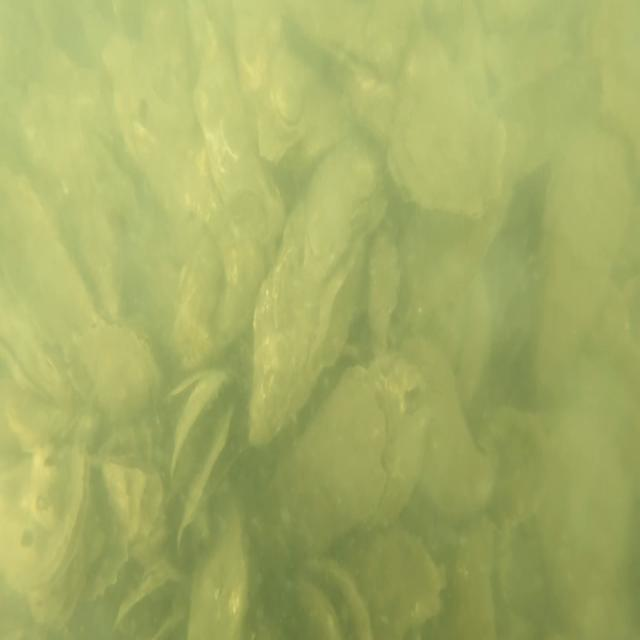Oyster-Closed: (249, 149, 383, 451), (258, 364, 389, 561), (386, 87, 506, 226), (0, 308, 69, 414)
Oyster-Indeterminate: (533, 123, 630, 416), (0, 168, 98, 361), (172, 188, 274, 364), (400, 337, 498, 519), (70, 321, 164, 446), (343, 530, 445, 640), (188, 517, 250, 640)
Oyster-Open: (169, 368, 239, 544), (22, 440, 90, 590), (368, 213, 419, 346), (292, 558, 371, 640), (117, 567, 186, 640)
